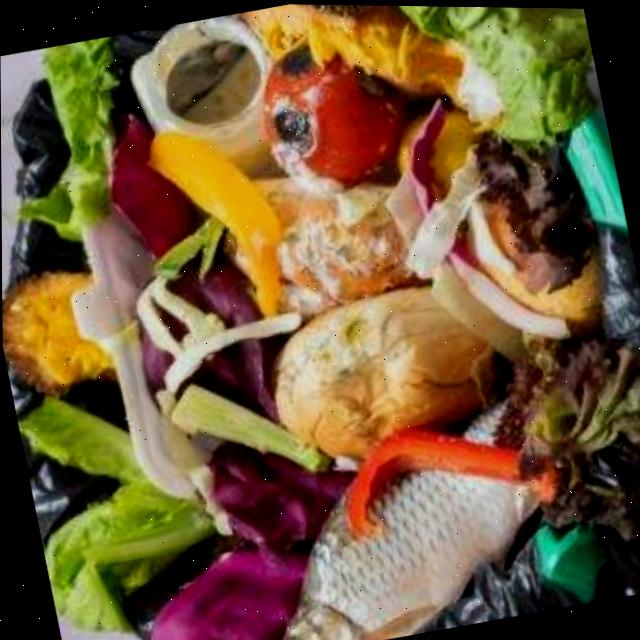Garbage: (0, 4, 640, 640)
Plastic_bottle: (130, 15, 274, 176)
